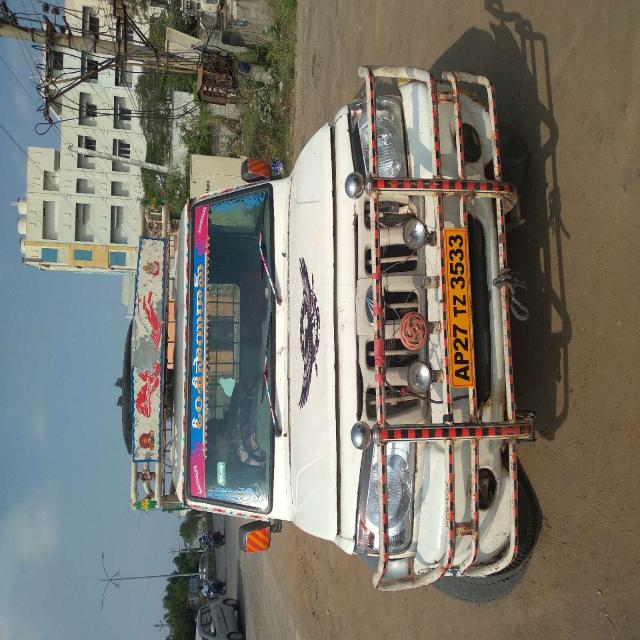light_vehicle: (124, 83, 539, 553)
